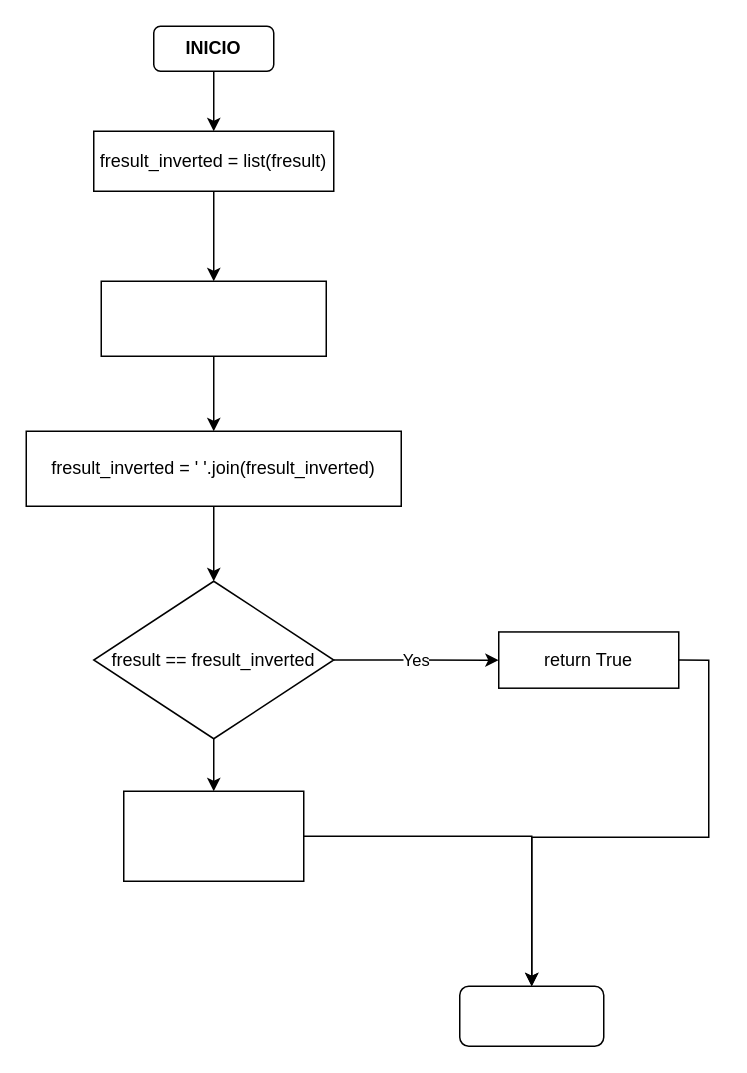
This 747x1073 diagram has some shape labels left out. Here are the shapes that lost their labels. From the top down, the centre of each, then its label:
(213,318): fresult_inverted.reverse()
(213,835): return False
(531,1015): FIN
